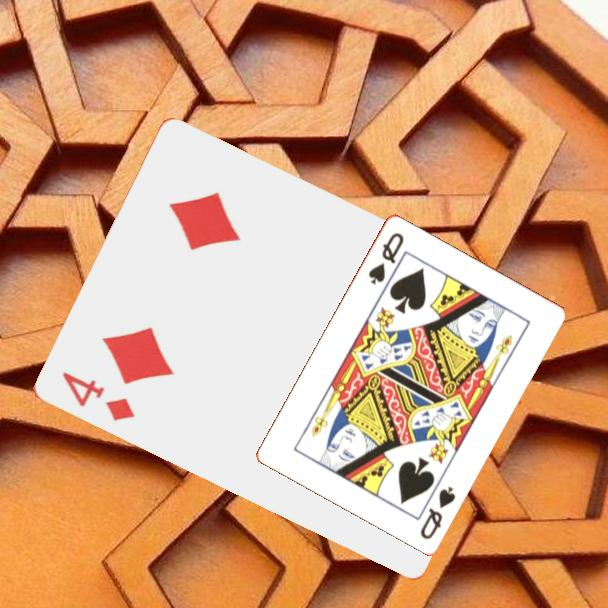d04: (57, 368, 138, 425)
s12: (416, 482, 459, 542), (364, 229, 407, 287)
